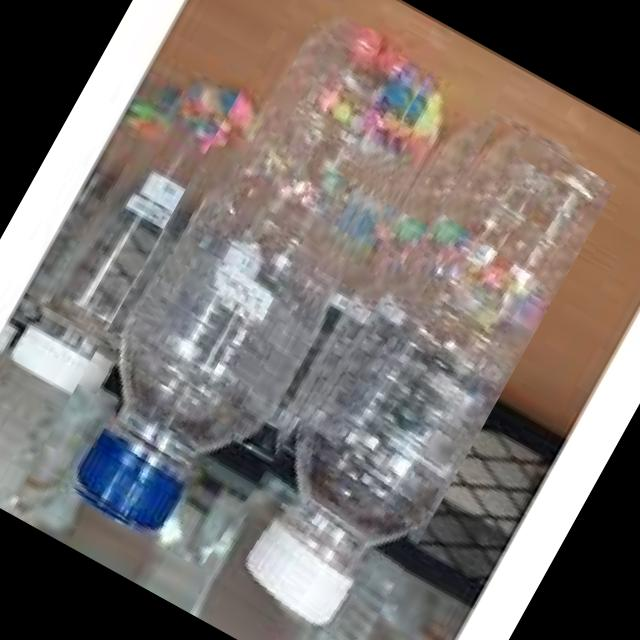plastic bottle: (28, 0, 447, 554), (191, 98, 616, 640)
